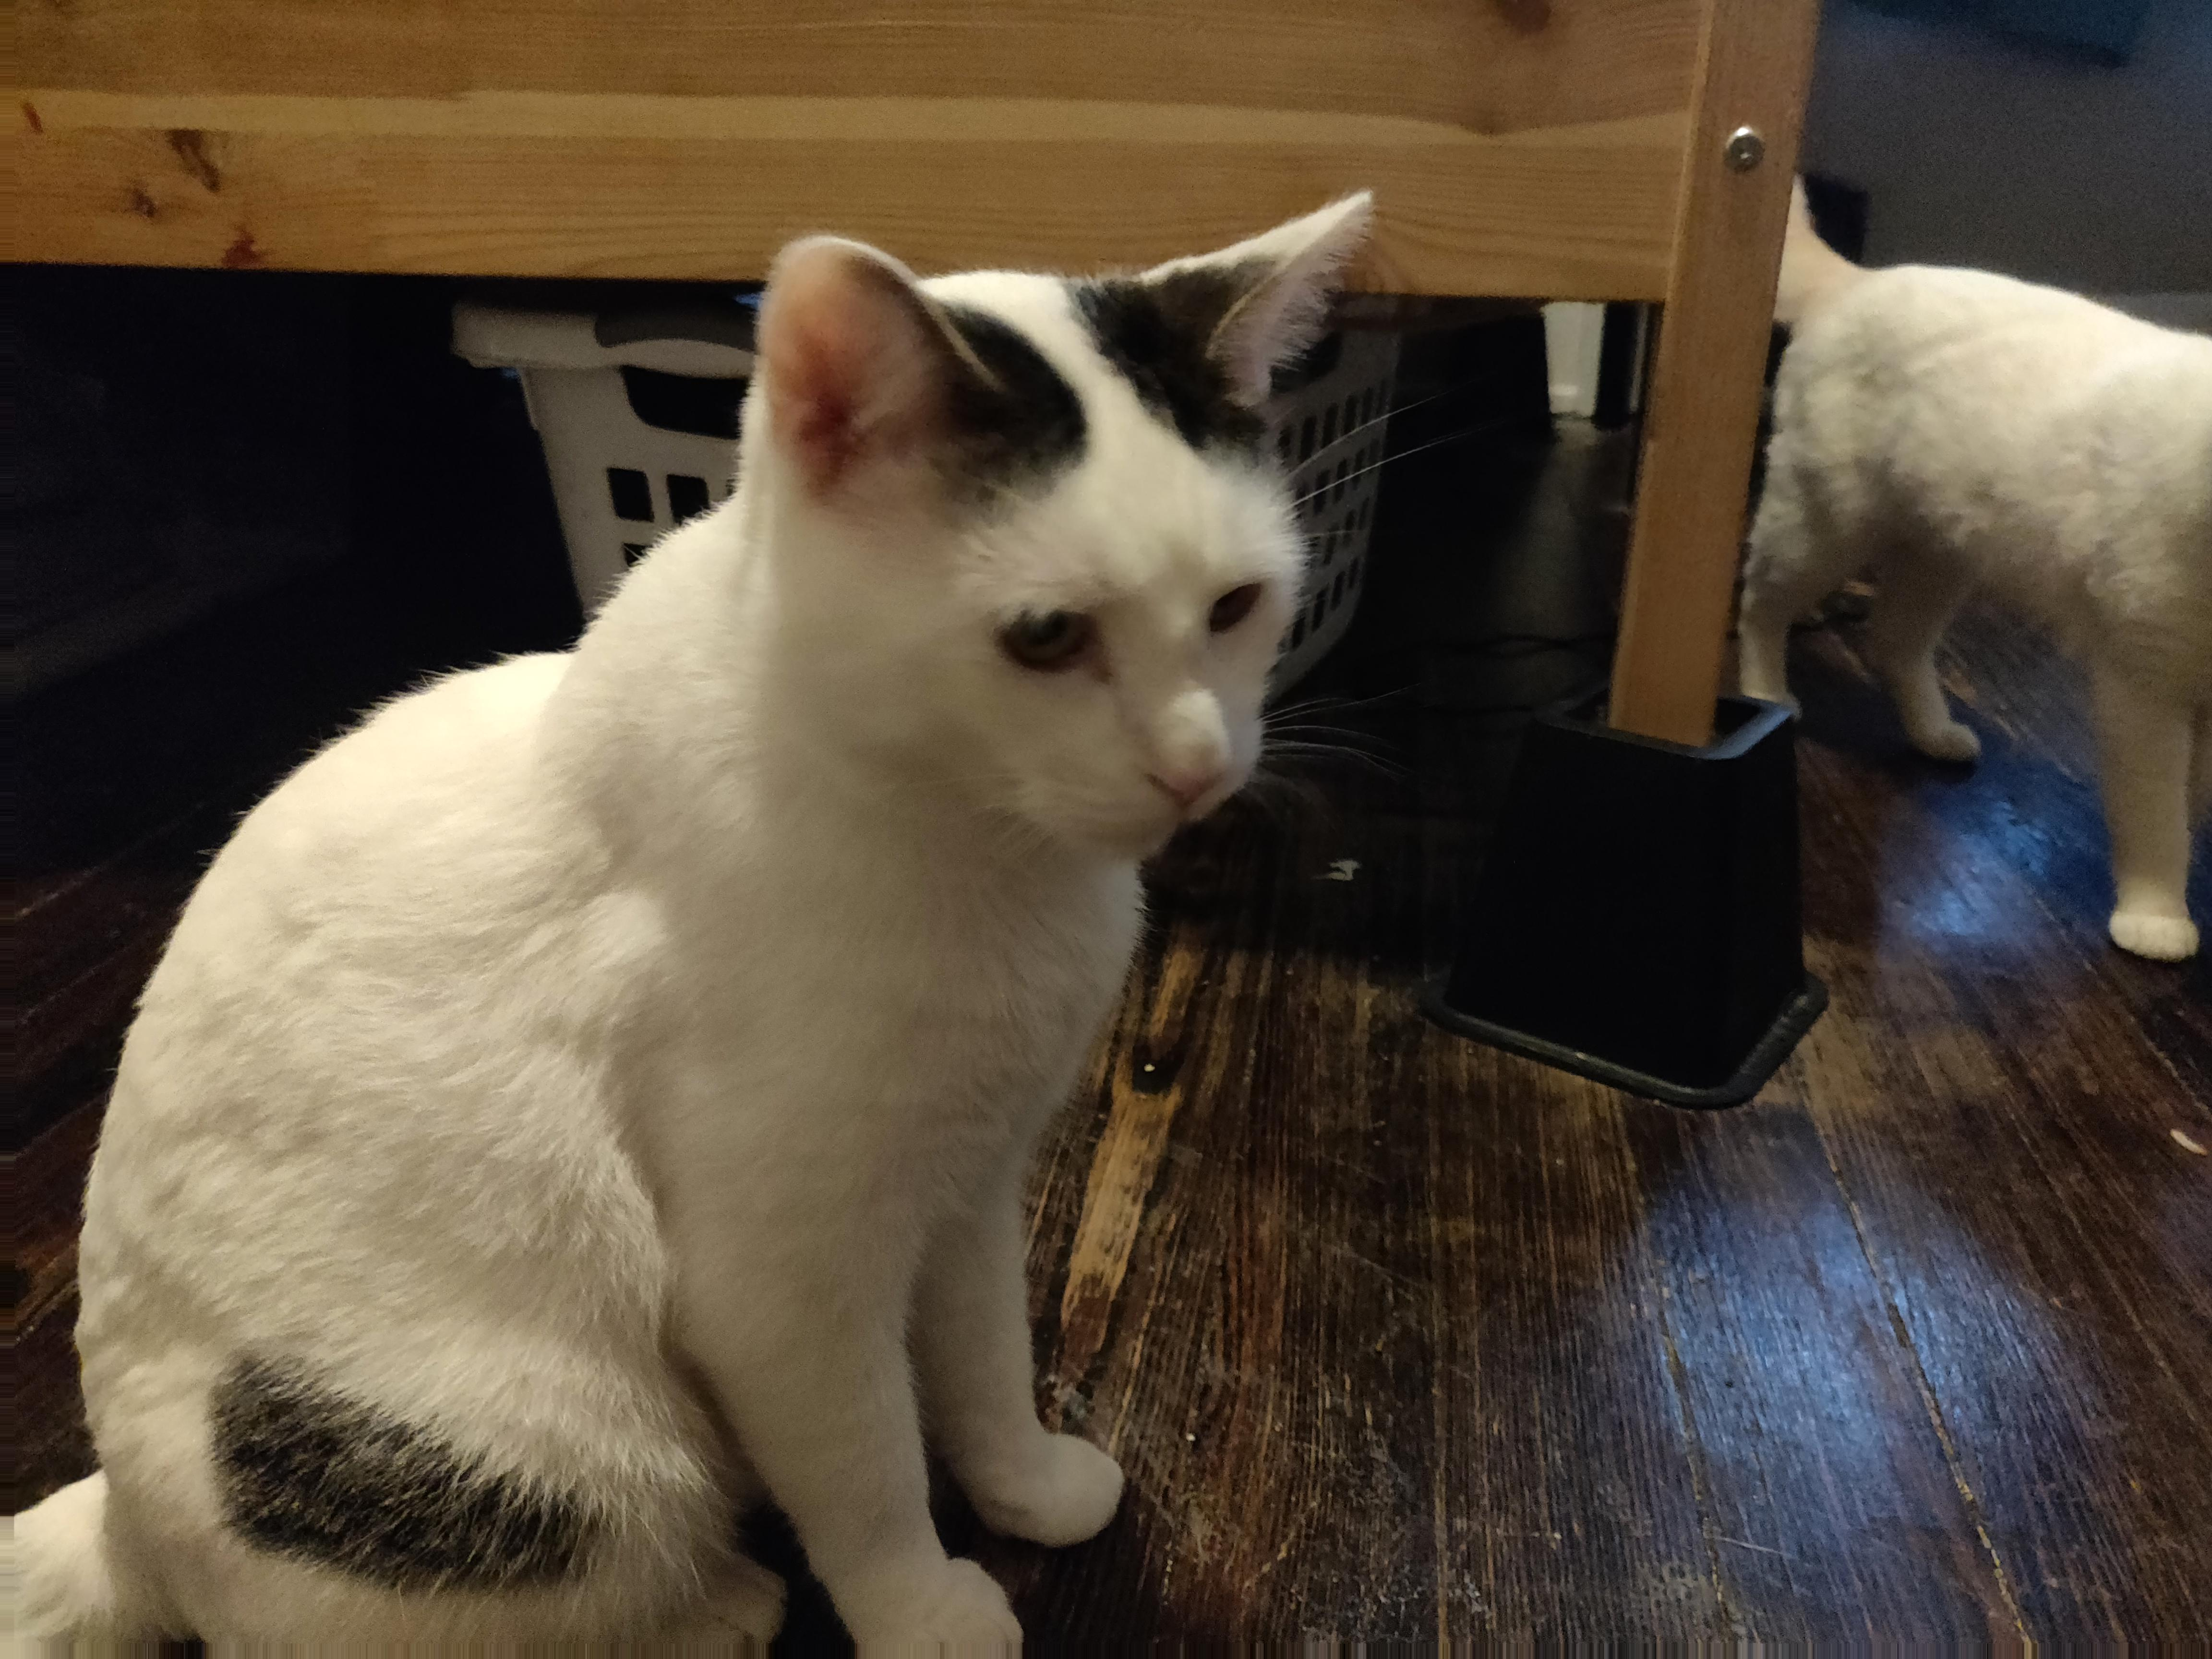cat: (8, 177, 1365, 1626), (1776, 168, 2208, 950)
